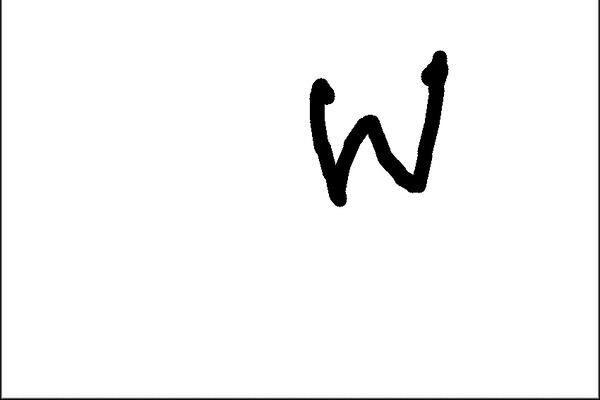w: (285, 34, 461, 222)
